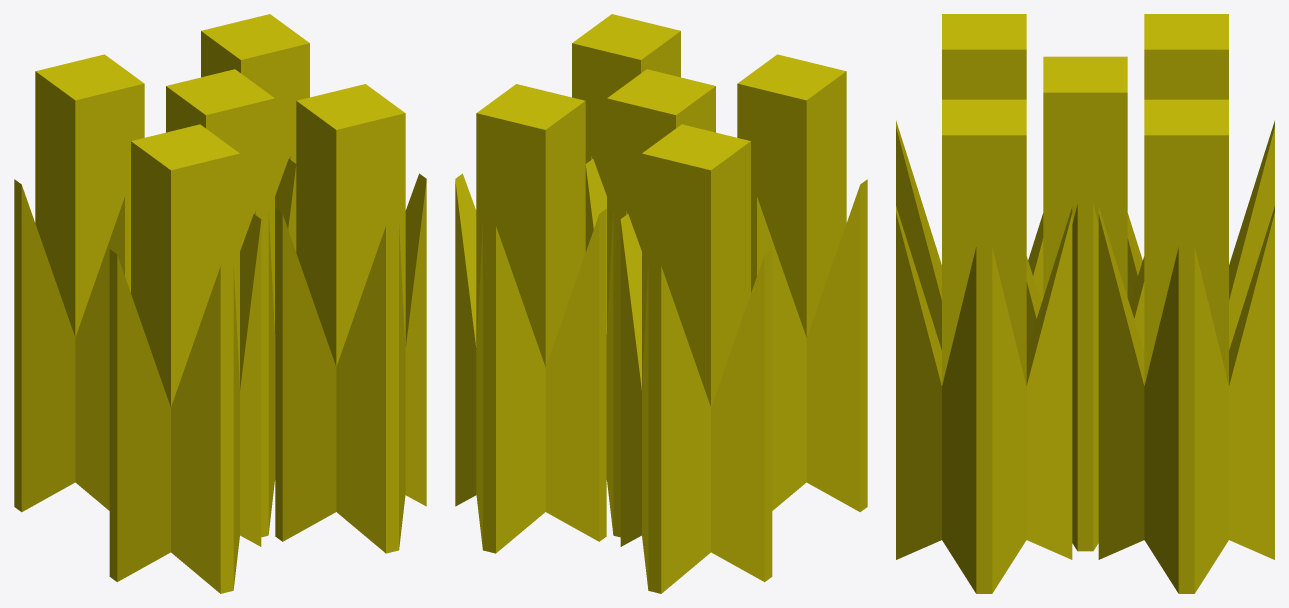
The picture shows the model from 3 angles, left to right: view 1: azimuth 30°, elevation 25°; view 2: azimuth 150°, elevation 25°; view 3: azimuth 270°, elevation 25°; orthographic projection. The views are drawn at different scales.
Visible parts, largest first — view 1: Cube_002, Cube_001, Cube_003, Cube, Cube_004; view 2: Cube_003, Cube_004, Cube_002, Cube, Cube_001; view 3: Cube_001, Cube_004, Cube, Cube_002, Cube_003.
Boxes of the visible parts, bbox=[...] form: Cube_002: bbox=[109, 124, 261, 593]; Cube_001: bbox=[275, 84, 426, 553]; Cube_003: bbox=[14, 54, 144, 512]; Cube: bbox=[166, 69, 296, 537]; Cube_004: bbox=[201, 14, 309, 195]; Cube_003: bbox=[620, 124, 772, 593]; Cube_004: bbox=[455, 84, 606, 553]; Cube_002: bbox=[737, 54, 867, 512]; Cube: bbox=[585, 69, 715, 537]; Cube_001: bbox=[572, 14, 680, 195]; Cube_001: bbox=[896, 99, 1072, 593]; Cube_004: bbox=[1098, 99, 1274, 593]; Cube: bbox=[1026, 56, 1144, 551]; Cube_002: bbox=[896, 14, 1043, 349]; Cube_003: bbox=[1127, 14, 1274, 349].
Bounding box in the file's own units: 1.12 × 1.12 × 1.44.
